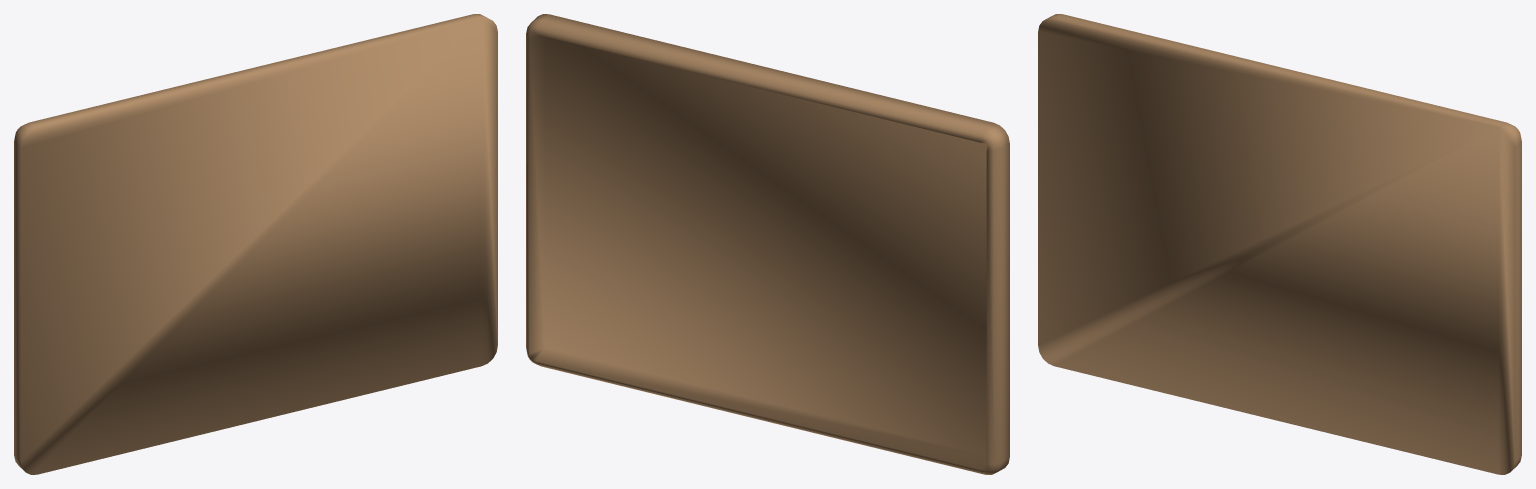
The model's file is frame.fbx.
3 renders of one model, left to right at view 1: azimuth 30°, elevation 25°; view 2: azimuth 150°, elevation 25°; view 3: azimuth 330°, elevation 25°, orthographic.
Parts seen in each view (by area): view 1: Cube; view 2: Cube; view 3: Cube.
Part boxes in pixels (x1,y1,x2,y2): Cube: (14,14,497,474); Cube: (526,14,1009,474); Cube: (1038,14,1521,474).
Size of the model in its own units: 200 by 139 by 9.66.
